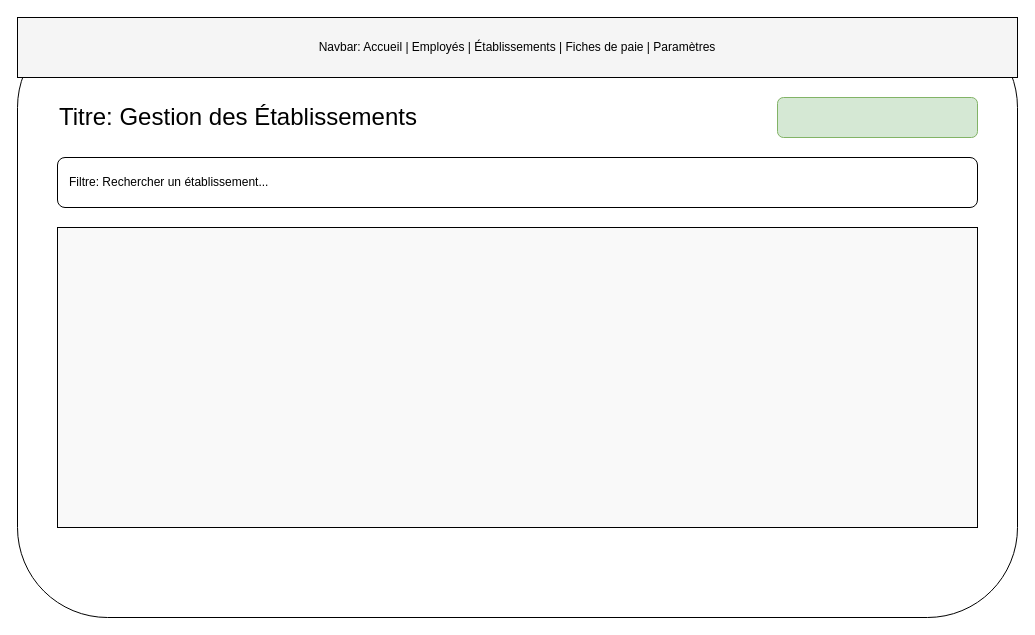
The diagram is 1035 pixels wide and 635 high, and some of its shapes have lost their labels. Each missing label, with the centre of its shape:
"Bouton: + Nouvel Établissement" belongs at pixel 877 117.
"Tableau: Nom | SIRET | Adresse | Convention Collective | Employés | Actions" belongs at pixel 517 377.
